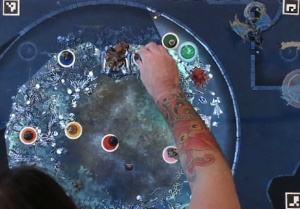blue: (54, 48, 77, 68)
green: (159, 30, 178, 50)
orange: (16, 124, 38, 145)
pink: (159, 143, 179, 164)
red: (99, 130, 120, 154)
violet: (130, 50, 146, 67)
yellow: (61, 120, 84, 140)
